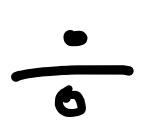div: (11, 28, 133, 116)
